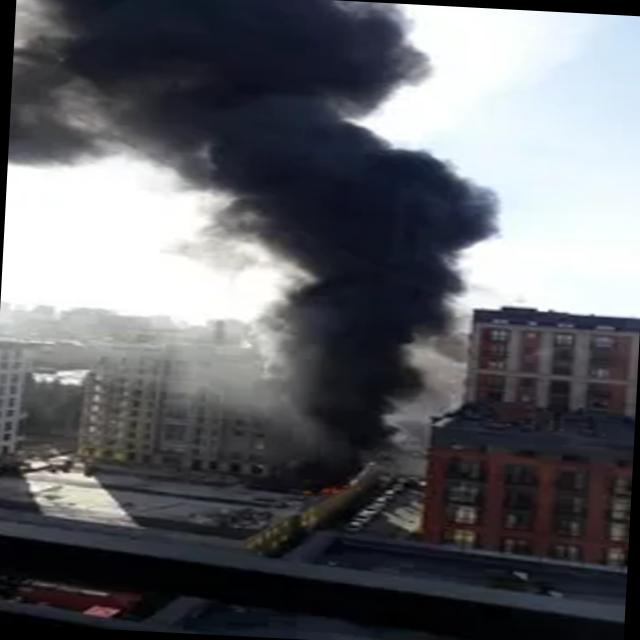Smoke: (0, 0, 512, 455)
